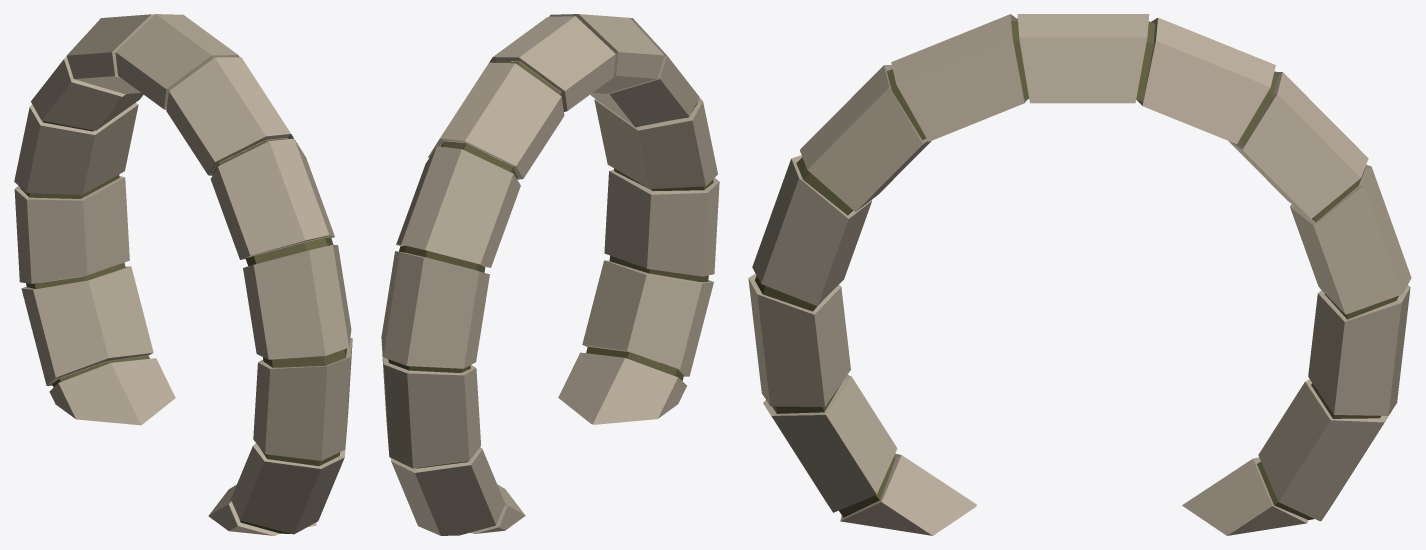
The model's file is chuansongmen.fbx.
3 renders of one model, left to right at view 1: azimuth 30°, elevation 25°; view 2: azimuth 150°, elevation 25°; view 3: azimuth 270°, elevation 25°, orthographic. The views are drawn at different scales.
Visible parts, largest first — view 1: 环体.002; view 2: 环体.002; view 3: 环体.002.
Boxes of the visible parts, x1,y1,x2,y2 form: 环体.002: (14,14,352,535); 环体.002: (381,14,719,535); 环体.002: (748,14,1411,535).
Size of the model in its own units: 48.76 by 203 by 249.
